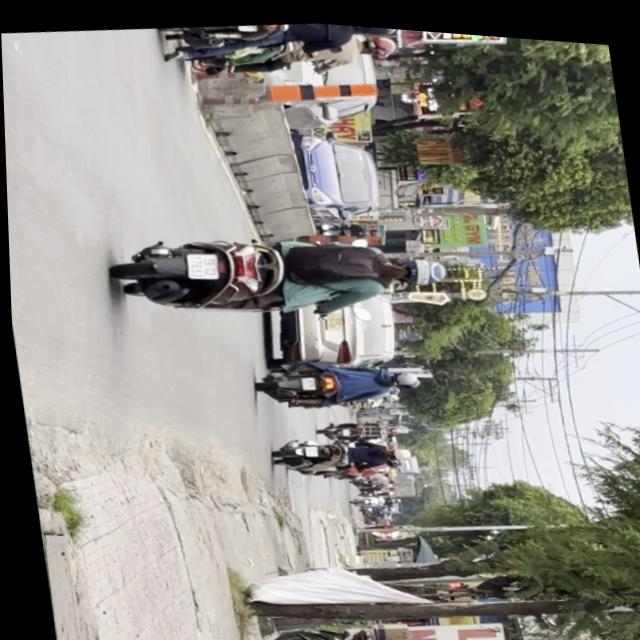helmet: (376, 242, 449, 284), (359, 25, 399, 52), (355, 21, 400, 32)
licenseplate: (103, 198, 455, 337), (157, 9, 404, 84)
nohelmet: (184, 246, 219, 277)
